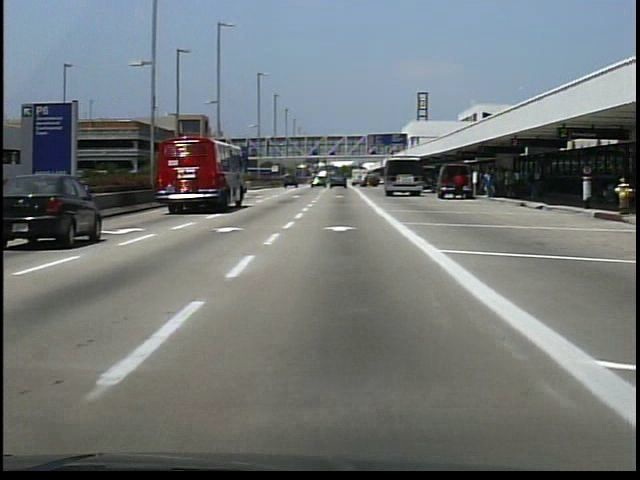person: (452, 167, 468, 204)
